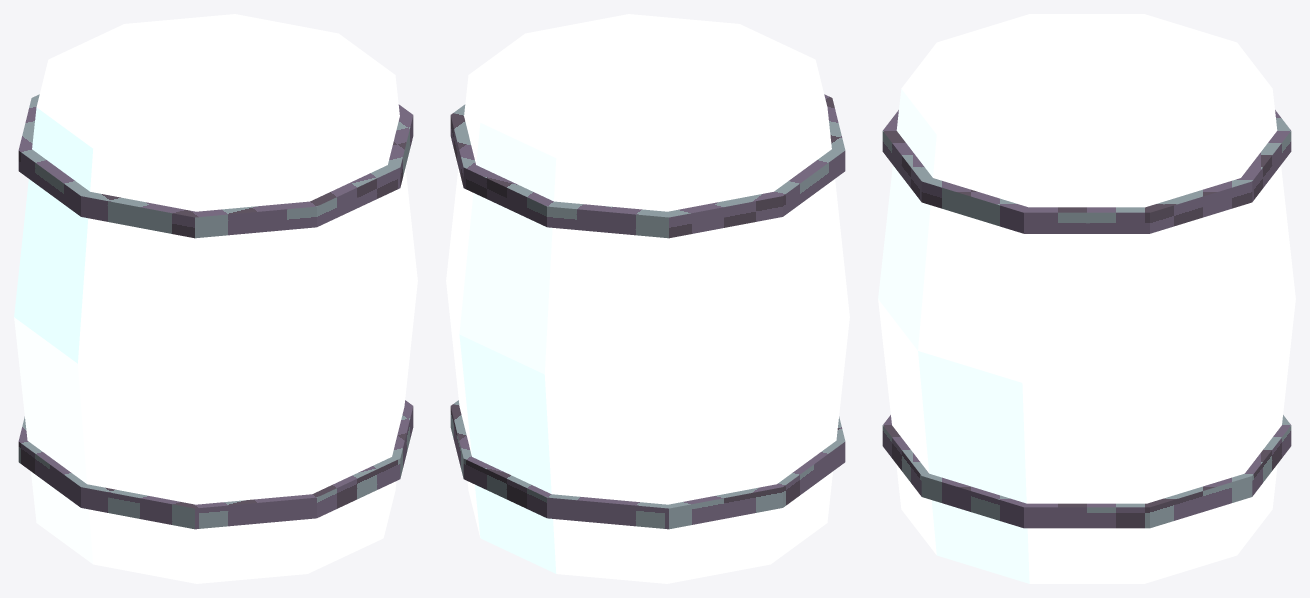
File: a51_garrafa.glb
3 renders of one model, left to right at view 1: azimuth 30°, elevation 25°; view 2: azimuth 150°, elevation 25°; view 3: azimuth 270°, elevation 25°, orthographic.
Parts seen in each view (by area): view 1: a51_garrafa; view 2: a51_garrafa; view 3: a51_garrafa.
Part boxes in pixels (x1,y1,x2,y2): a51_garrafa: (14,14,417,583); a51_garrafa: (446,14,849,583); a51_garrafa: (878,14,1295,583).
Bounding box in the file's own units: 0.856 × 1 × 0.9.
Materials: 2 (1 with a texture image).
